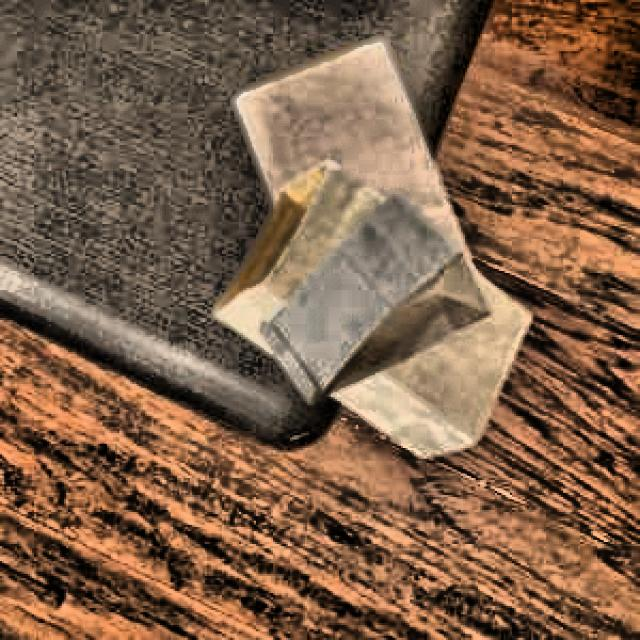Paper-bag: (212, 173, 538, 474), (241, 27, 496, 322), (244, 196, 492, 418)
